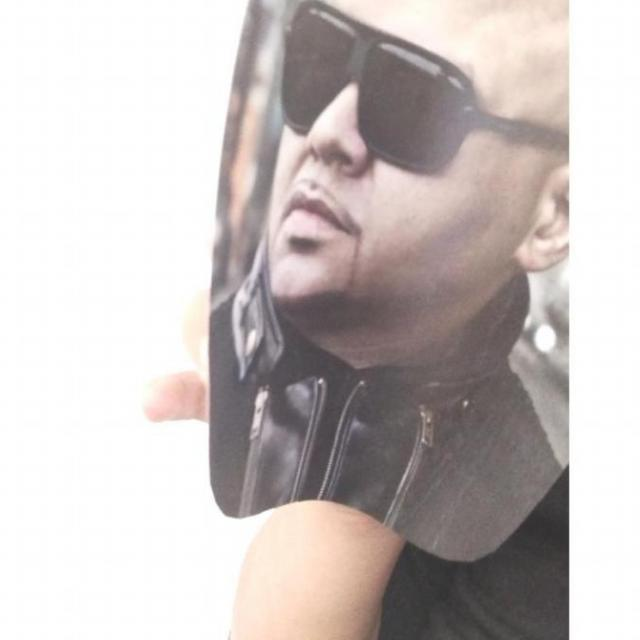photo: (135, 0, 566, 565)
